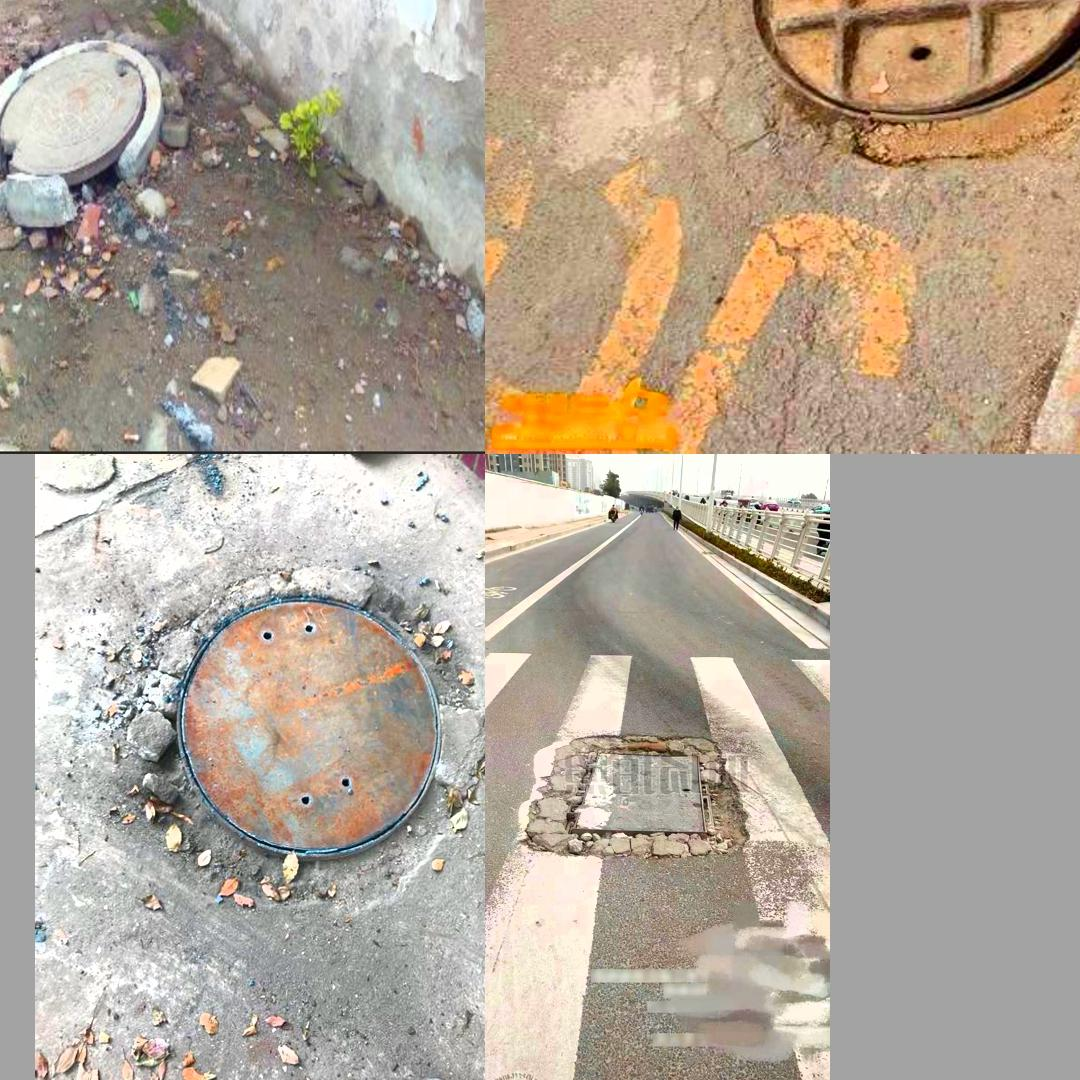circle: (89, 558, 472, 929), (712, 0, 1080, 215), (485, 904, 696, 1080), (0, 36, 165, 232)
